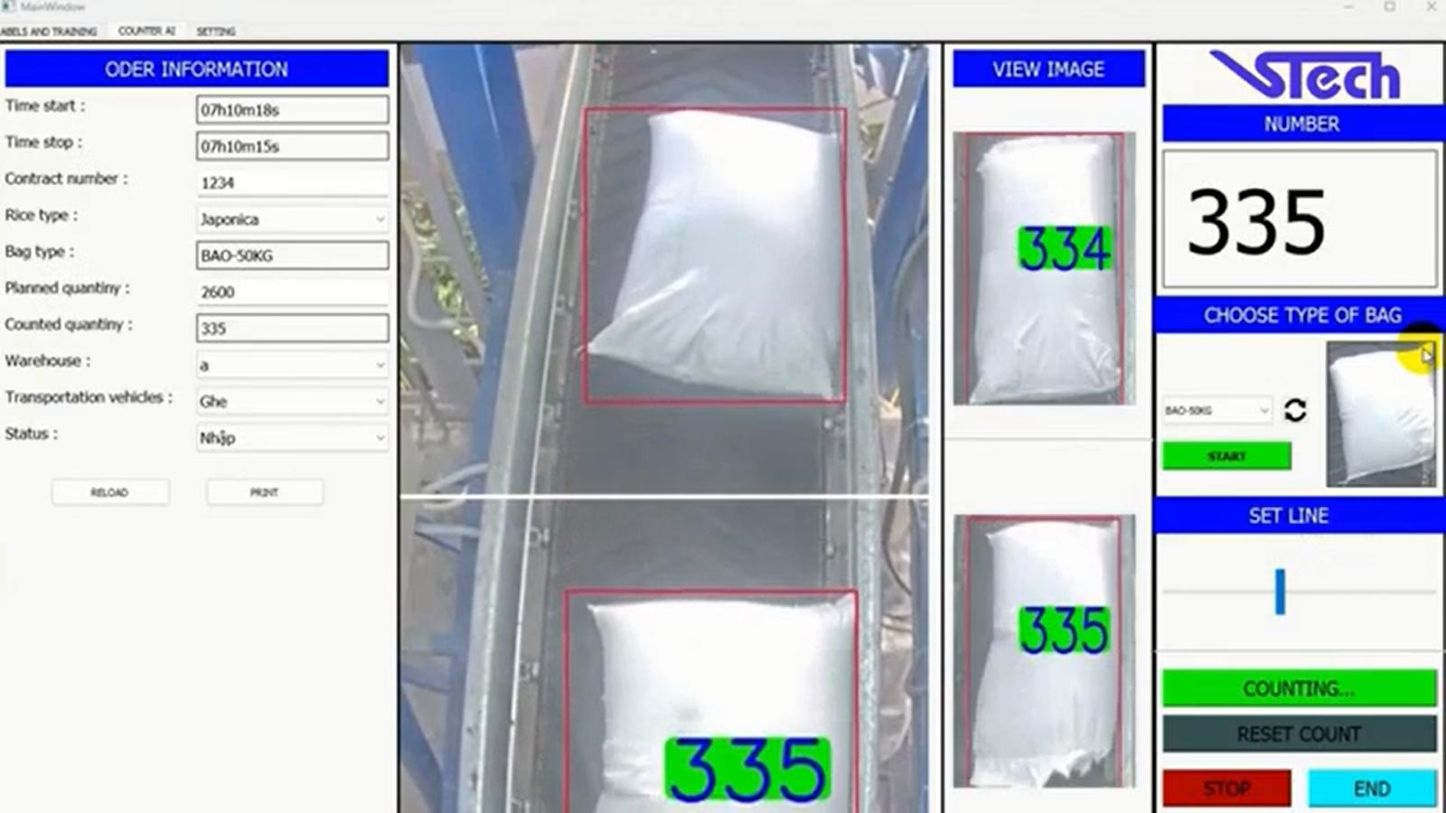rice-bag: (588, 109, 846, 402), (588, 600, 852, 812), (969, 521, 1118, 788), (971, 136, 1120, 402)
